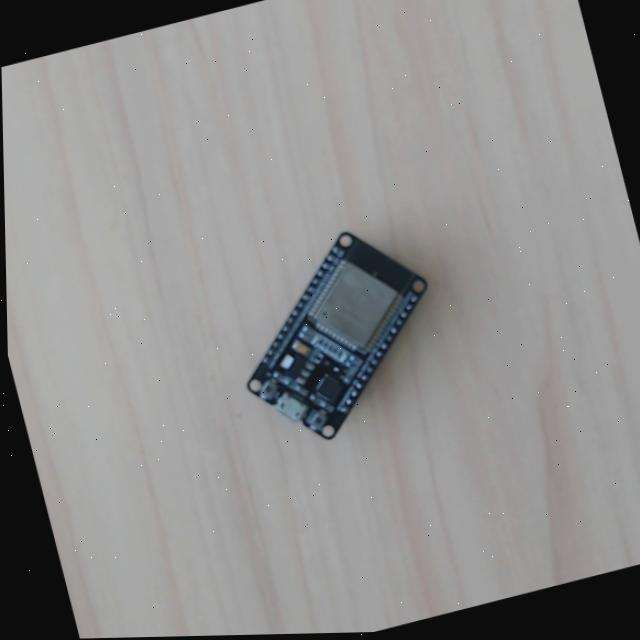ESP32-DevKit: (243, 228, 430, 442)
